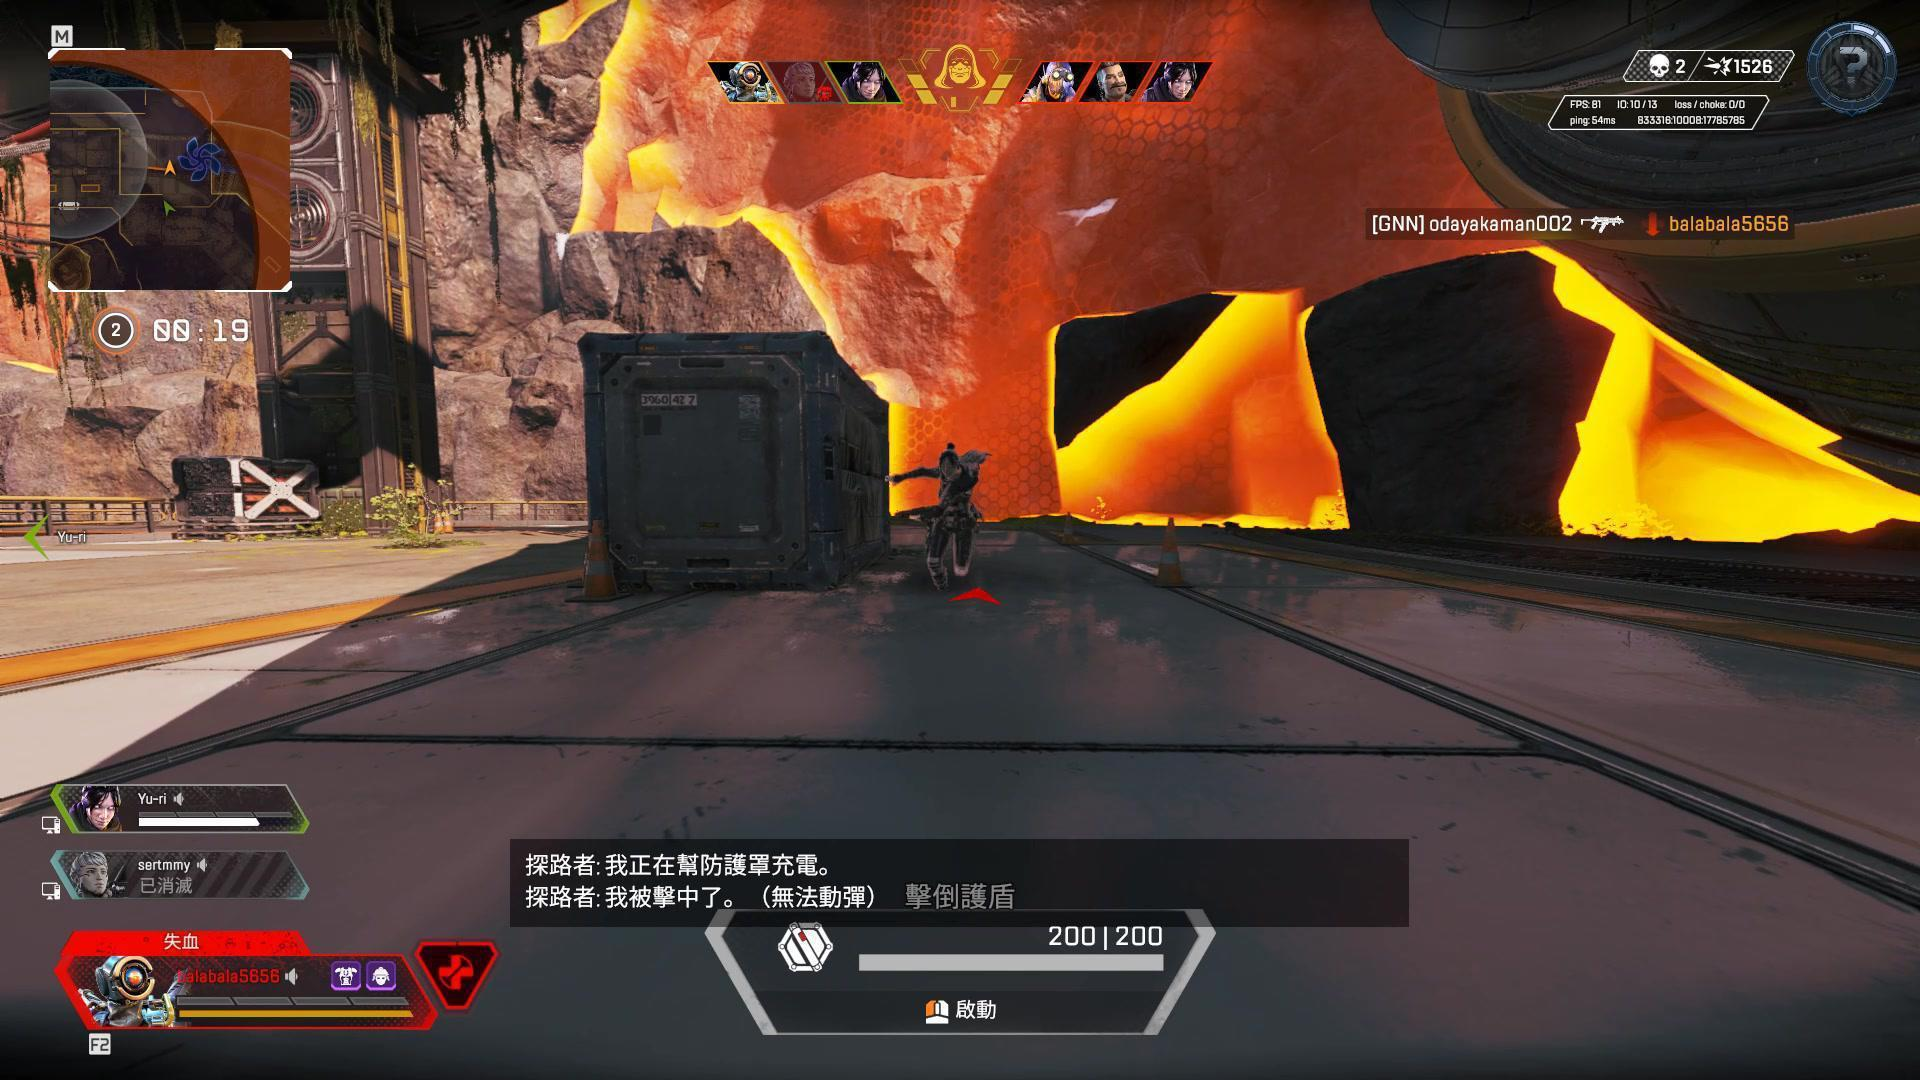avatar: (923, 440, 983, 594)
